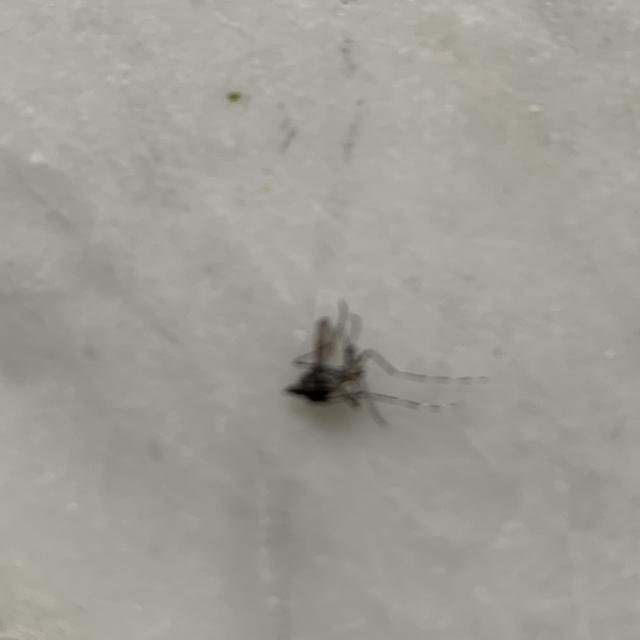albopictus: (268, 292, 492, 424)
